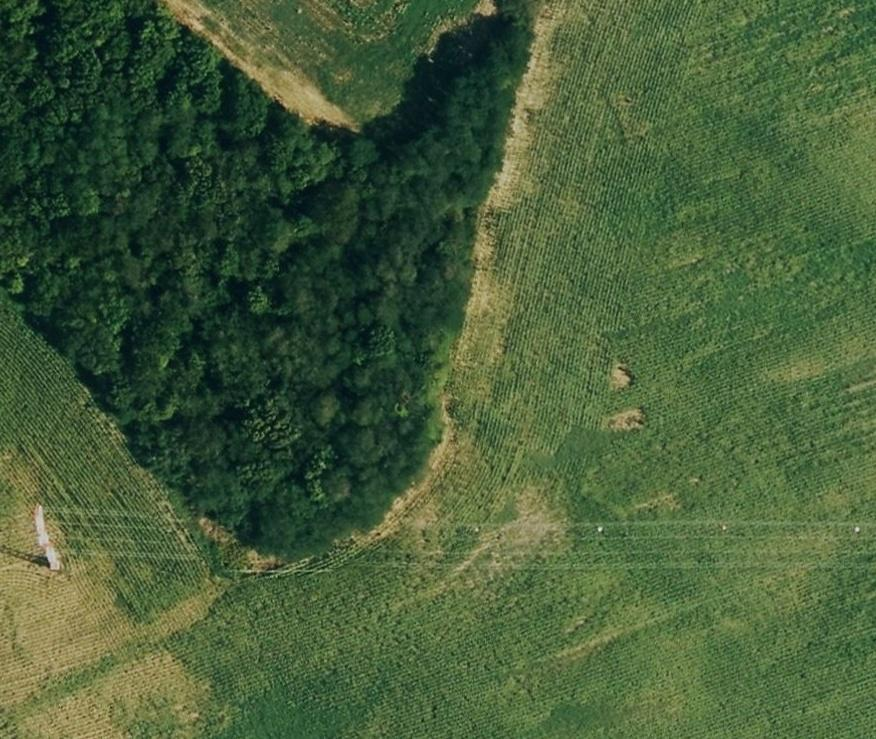field: (0, 2, 876, 737), (163, 1, 494, 129)
forest: (0, 2, 532, 556)
